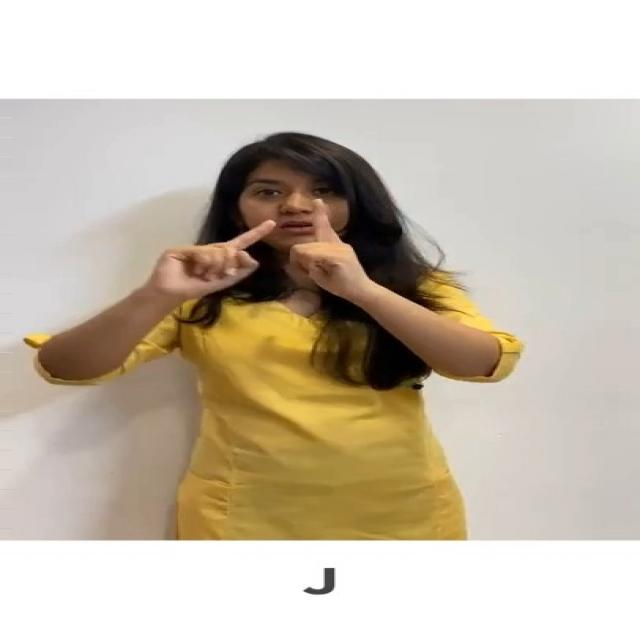J: (143, 190, 386, 311)
